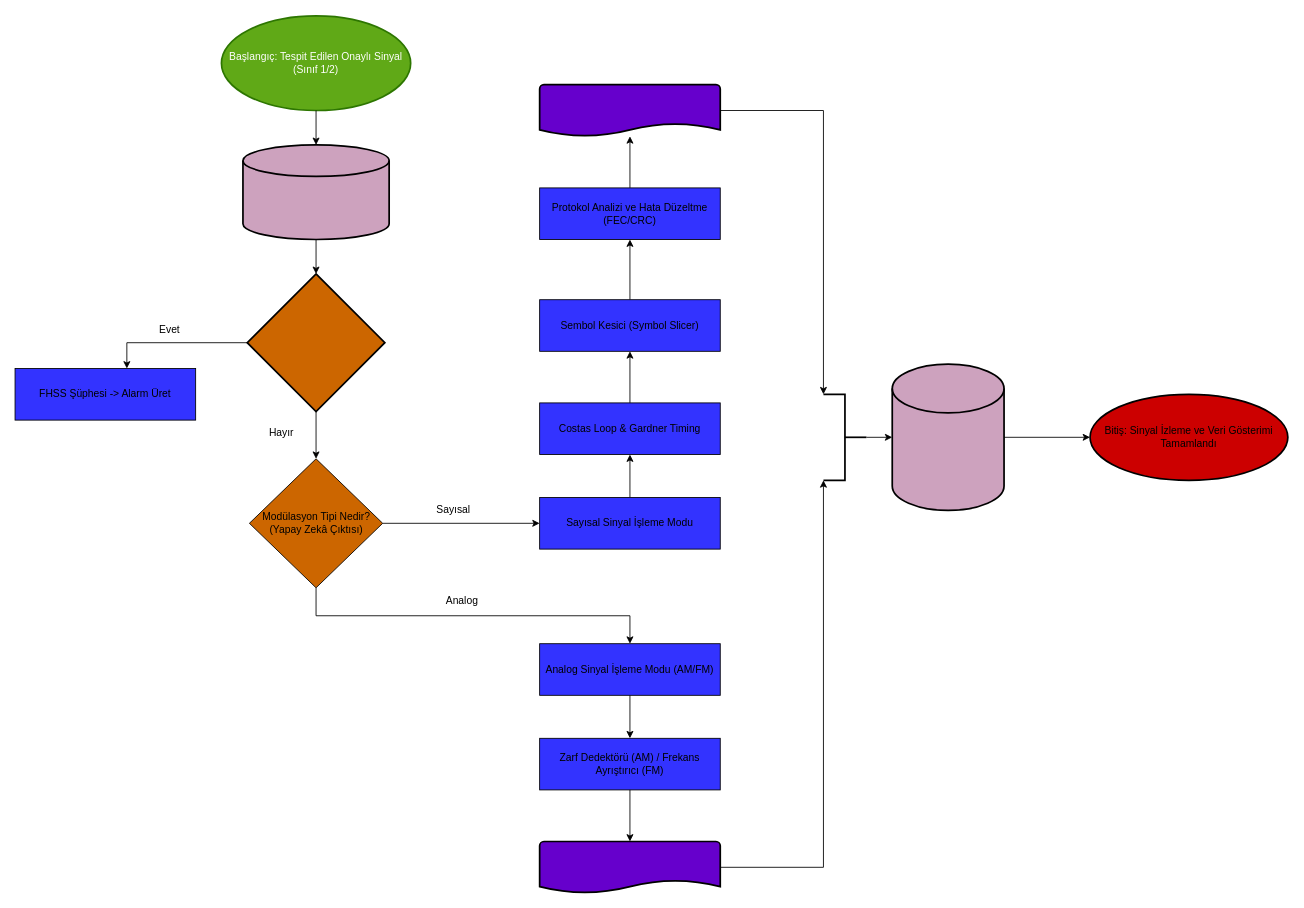
This 1304x908 diagram has some shape labels left out. The centre of each missing label's shape, as x and y in pixels:
"DecodedSignal Paketinin Oluşturulması ve Loglama" goes at point (947, 437).
"EKKT Analizi: Frekans Düzenli Değişiyor mu?" goes at point (315, 342).
"Ham Bit Akışı ve Çözülmüş Veri (Payload)" goes at point (629, 110).
"PCM Ses Verisi (Audio)" goes at point (629, 867).
"Sinyal Durum Uzayı (State Space) Güncellemesi" goes at point (316, 192).
